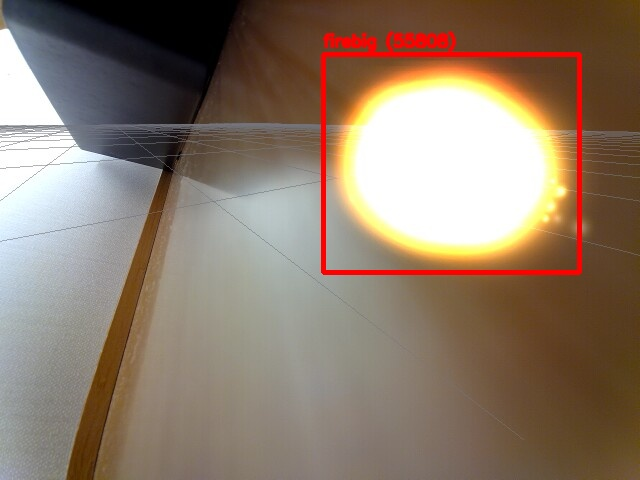firebig: (323, 54, 579, 272)
